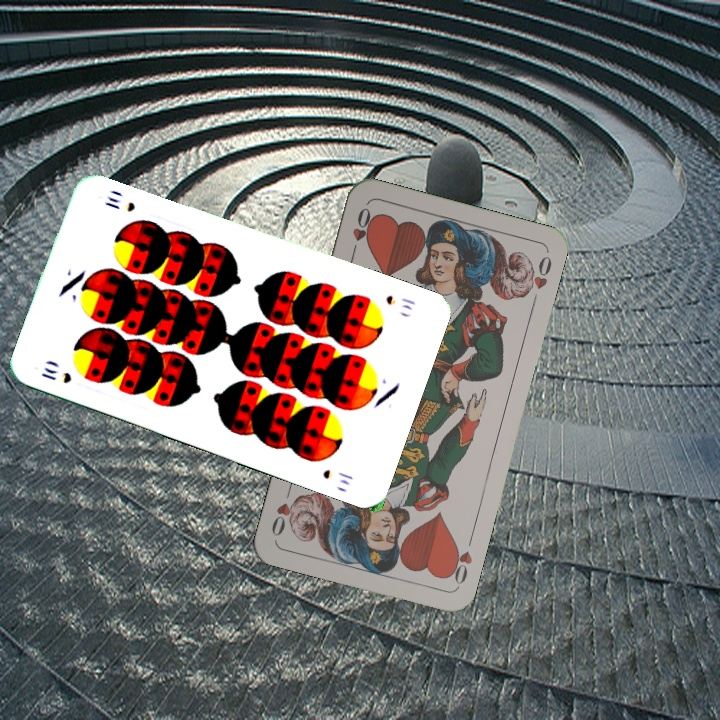HO: (443, 531, 476, 589), (347, 203, 376, 260)
S10: (37, 363, 75, 386), (381, 291, 418, 313)
